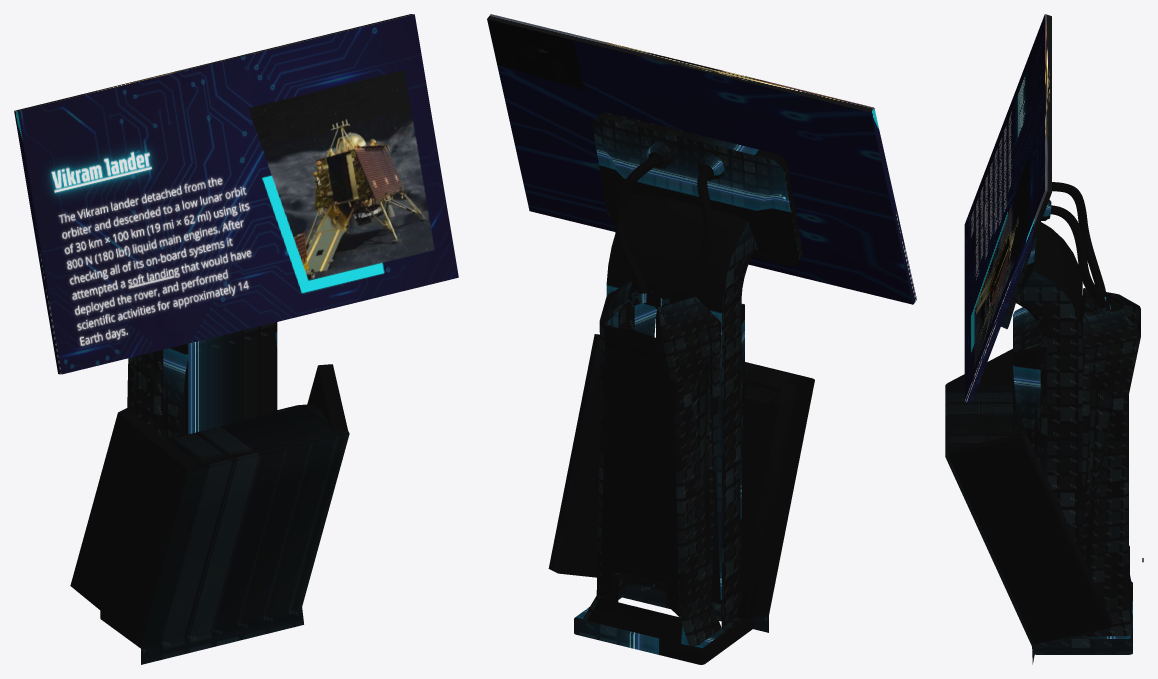
Rendered from vikram.glb.
3 renders of one model, left to right at view 1: azimuth 30°, elevation 25°; view 2: azimuth 150°, elevation 25°; view 3: azimuth 270°, elevation 25°, orthographic. The views are drawn at different scales.
Parts seen in each view (by area): view 1: Cube, Body; view 2: Body, Cube; view 3: Body, Cube.
Part boxes in pixels (left/top/right/bottom): Cube: left=14, top=14, right=458, bottom=374; Body: left=70, top=322, right=349, bottom=664; Body: left=548, top=112, right=814, bottom=664; Cube: left=487, top=14, right=916, bottom=304; Body: left=945, top=182, right=1143, bottom=664; Cube: left=964, top=14, right=1051, bottom=403.
Bounding box in the file's own units: 0.9994 × 1.39 × 0.4742.
3 materials, 3 textured.
